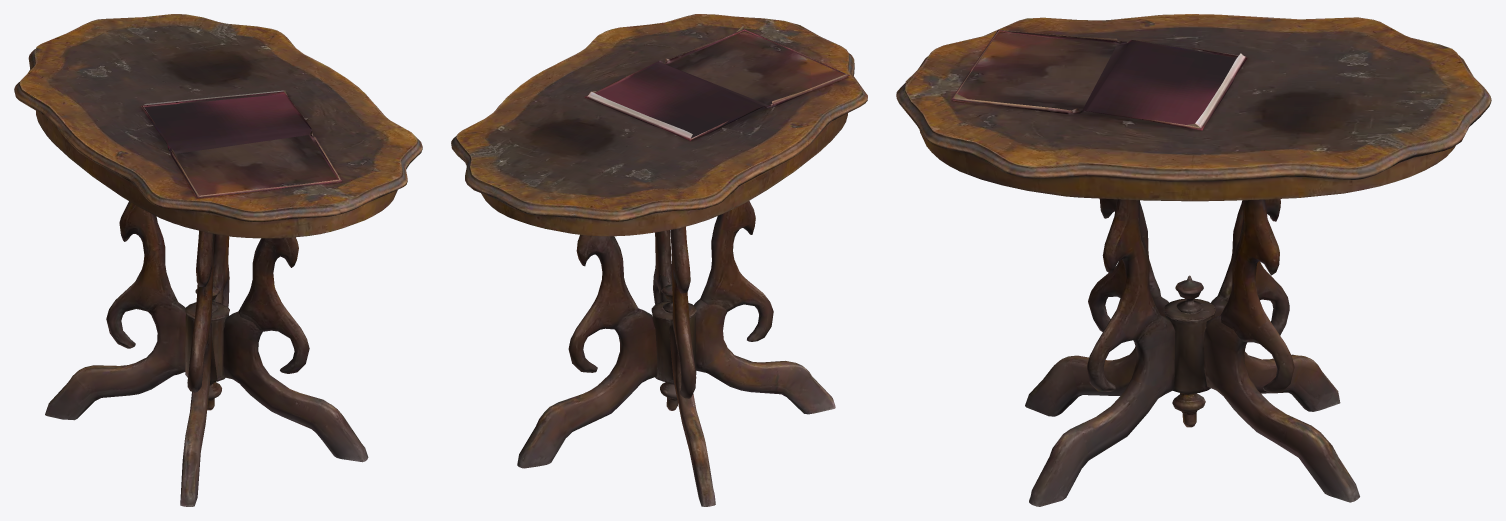
File: library_desk.glb
The picture shows the model from 3 angles, left to right: view 1: azimuth 30°, elevation 25°; view 2: azimuth 150°, elevation 25°; view 3: azimuth 270°, elevation 25°; orthographic projection. The views are drawn at different scales.
Parts seen in each view (by area): view 1: Object_3; view 2: Object_3; view 3: Object_3.
Part boxes in pixels (x1,y1,x2,y2): Object_3: [14, 14, 422, 506]; Object_3: [451, 14, 867, 506]; Object_3: [896, 14, 1491, 506].
Bounding box in the file's own units: 0.7017 × 0.7924 × 1.12.
1 material, 1 textured.
